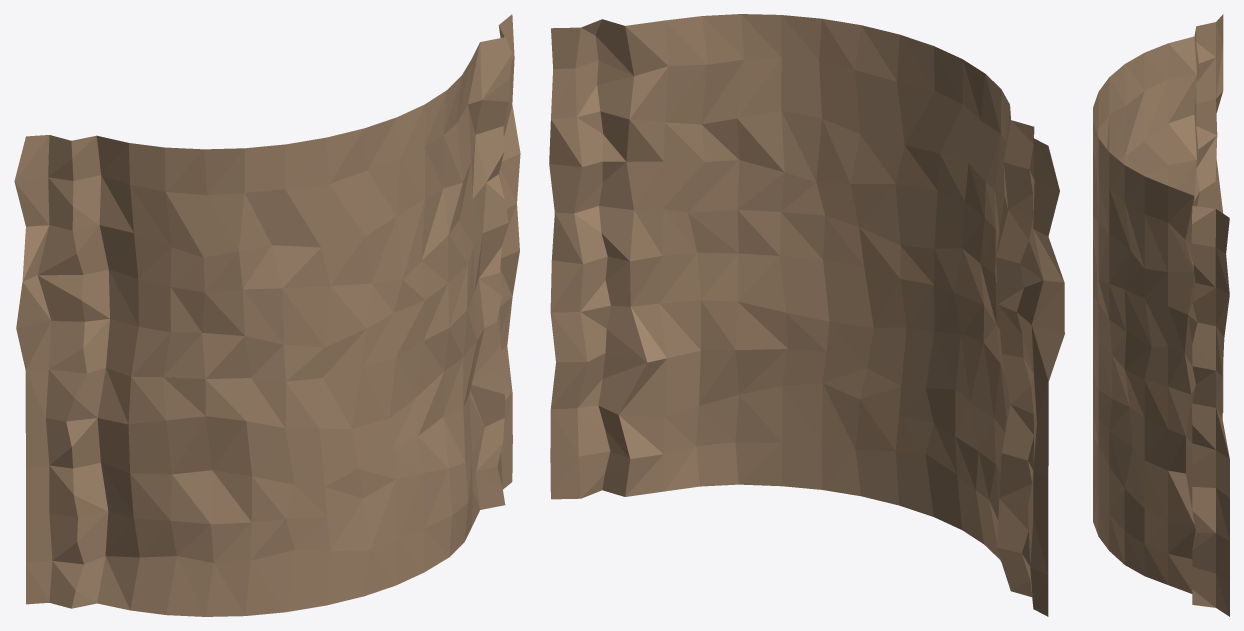
Rendered from Map_001.FBX.
The picture shows the model from 3 angles, left to right: view 1: azimuth 30°, elevation 25°; view 2: azimuth 150°, elevation 25°; view 3: azimuth 270°, elevation 25°; orthographic projection. The views are drawn at different scales.
Visible parts, largest first — view 1: Map_001; view 2: Map_001; view 3: Map_001.
Boxes of the visible parts, x1,y1,x2,y2 form: Map_001: [14, 14, 520, 616]; Map_001: [549, 14, 1064, 616]; Map_001: [1093, 14, 1229, 616].
Size of the model in its own units: 12.5 by 11 by 3.42.
Materials: 1 (1 with a texture image).
